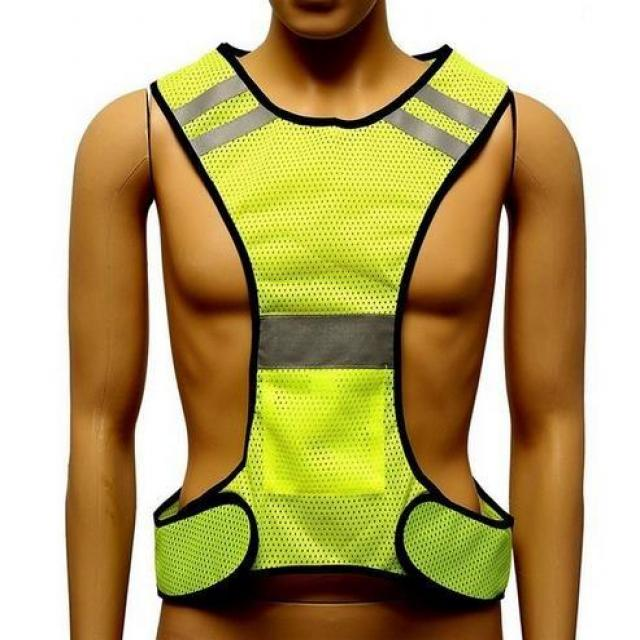Reflective-Jacket: (67, 10, 548, 638)
